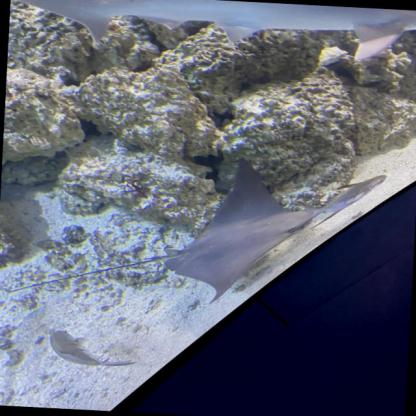fish: (301, 170, 387, 225), (49, 330, 132, 367)
shark: (8, 0, 416, 68)
stingray: (161, 151, 319, 309)
